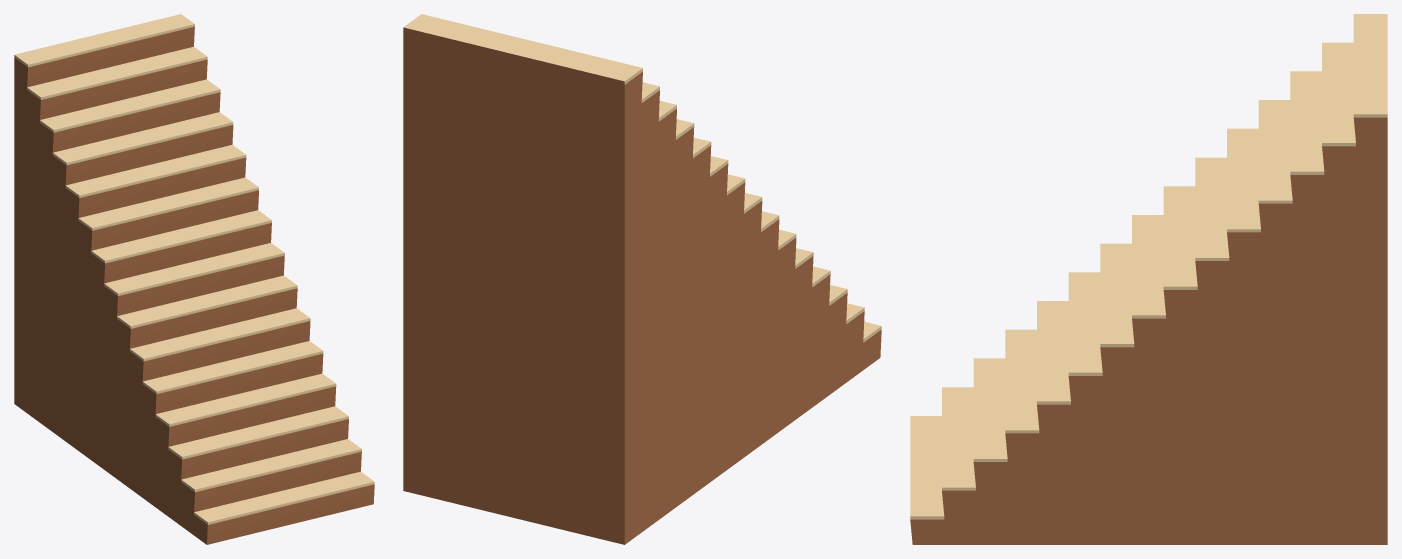
File: fullHeightStairs.glb
The picture shows the model from 3 angles, left to right: view 1: azimuth 30°, elevation 25°; view 2: azimuth 150°, elevation 25°; view 3: azimuth 270°, elevation 25°; orthographic projection. The views are drawn at different scales.
Visible parts, largest first — view 1: Stair_fullHeight; view 2: Stair_fullHeight; view 3: Stair_fullHeight.
Part boxes in pixels (box(x1,y1,x2,y2)): Stair_fullHeight: box(14, 14, 374, 544); Stair_fullHeight: box(403, 14, 881, 544); Stair_fullHeight: box(910, 14, 1387, 544).
Size of what is drawn, in the model's own units: 2 by 4 by 4.02.
Materials: 1 (1 with a texture image).
